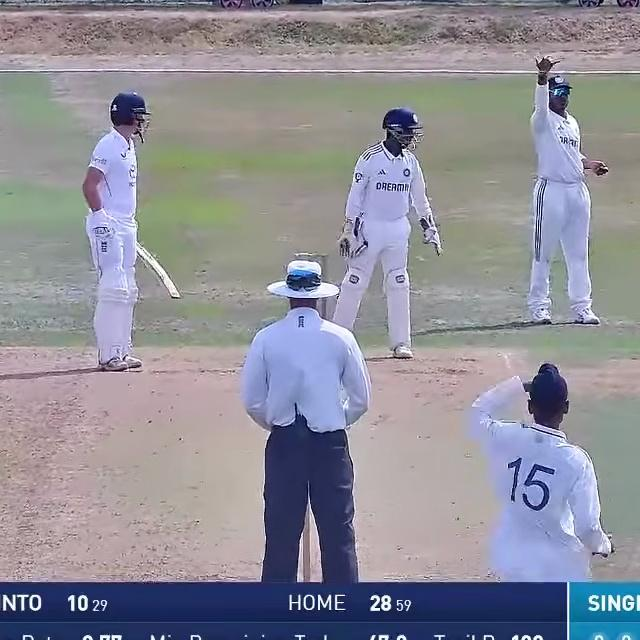umpire: (224, 245, 386, 584)
